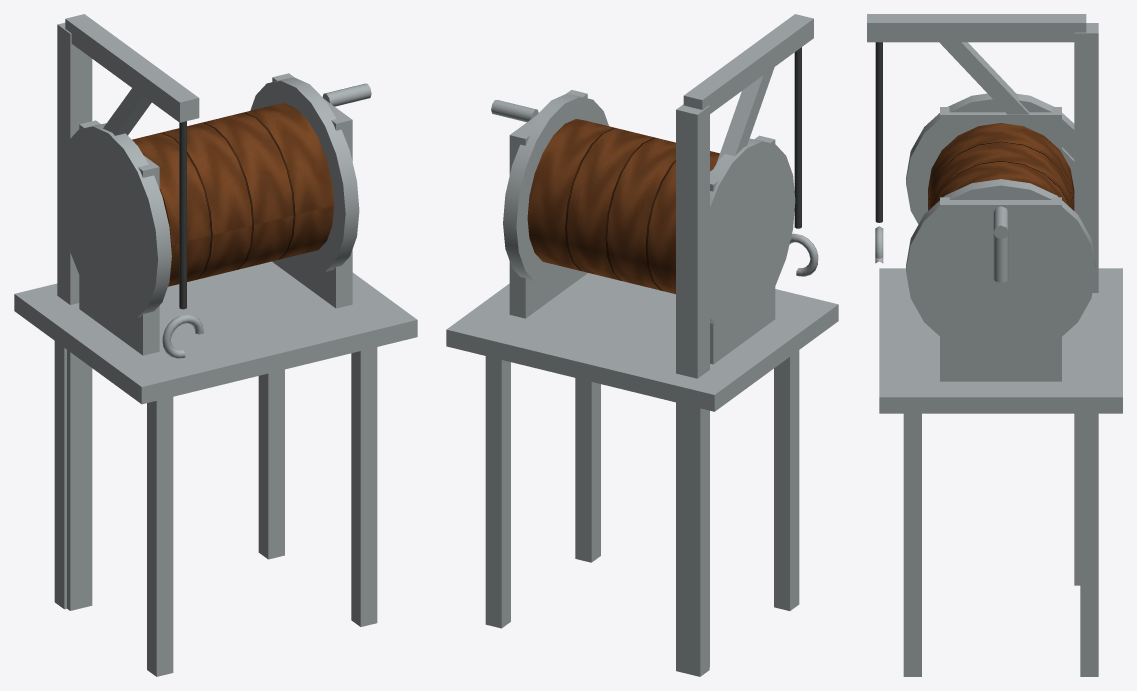
Rendered from roadside-survival-stops-service-jib-hoist-4728eaba__23571.glb.
3 renders of one model, left to right at view 1: azimuth 30°, elevation 25°; view 2: azimuth 150°, elevation 25°; view 3: azimuth 270°, elevation 25°, orthographic. The views are drawn at different scales.
Visible parts, largest first — view 1: service-jib-hoist; view 2: service-jib-hoist; view 3: service-jib-hoist.
Part boxes in pixels (x1=…): service-jib-hoist: x1=14, y1=14, x2=417, y2=676; service-jib-hoist: x1=446, y1=14, x2=838, y2=676; service-jib-hoist: x1=867, y1=14, x2=1122, y2=676.
Size of the model in its own units: 1.05 by 2.04 by 0.84.
Materials: 3 (1 with a texture image).
